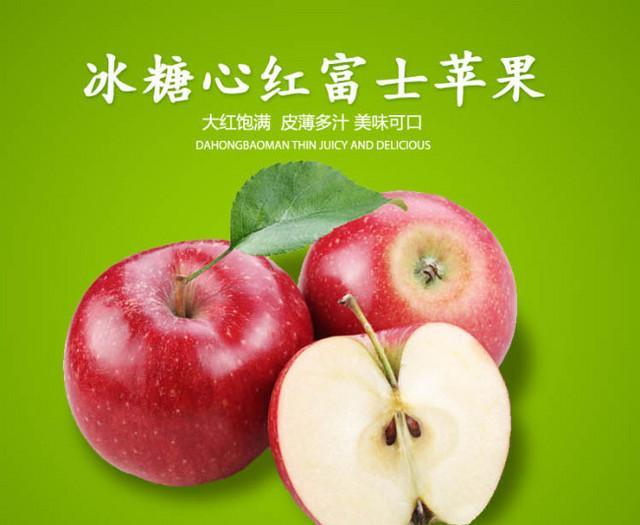apple: (61, 239, 314, 488), (264, 321, 513, 525), (292, 192, 520, 366)
